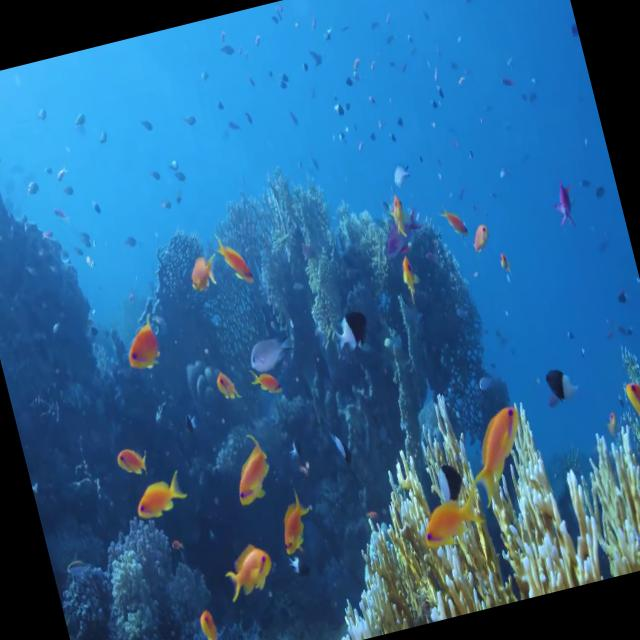fish: (453, 389, 541, 512), (410, 476, 488, 562), (212, 530, 284, 608), (265, 468, 322, 562), (114, 302, 174, 386), (223, 425, 280, 510), (316, 304, 388, 369), (128, 462, 198, 528), (526, 353, 588, 422), (238, 314, 306, 376), (374, 184, 429, 252), (212, 220, 262, 294), (538, 163, 582, 236), (614, 360, 640, 470), (180, 242, 230, 299), (389, 242, 428, 313), (457, 210, 498, 265), (109, 430, 153, 480), (244, 355, 282, 406), (436, 192, 476, 240), (203, 361, 244, 406), (191, 595, 230, 640)
